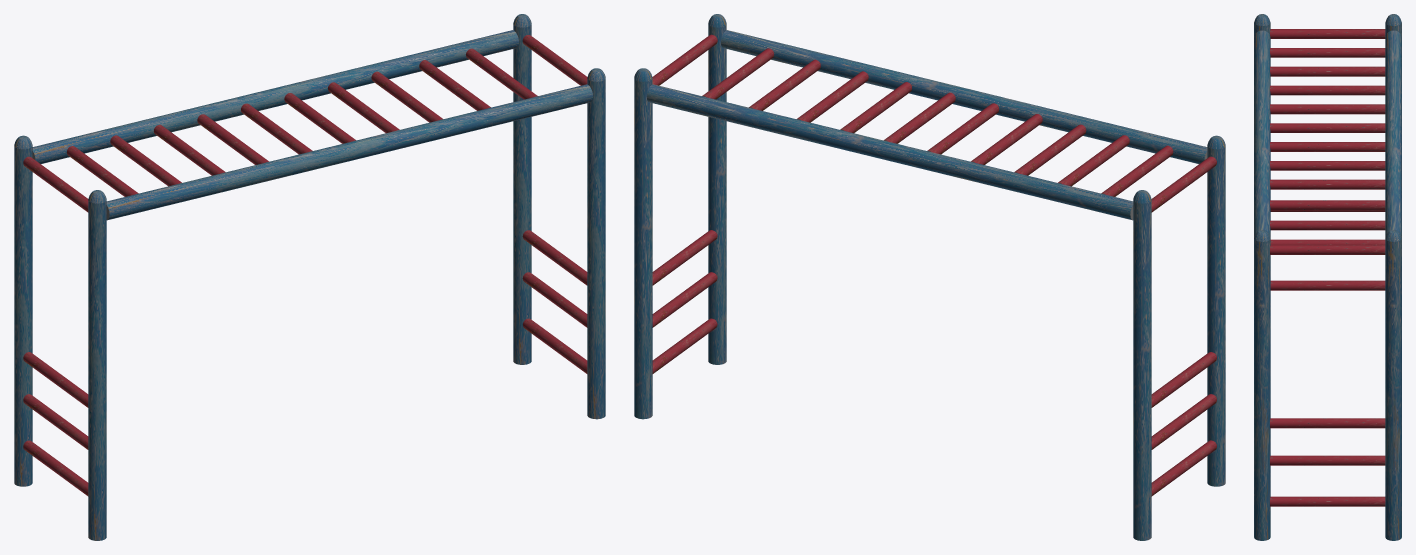
Rendered from pasamanos.obj.
3 renders of one model, left to right at view 1: azimuth 30°, elevation 25°; view 2: azimuth 150°, elevation 25°; view 3: azimuth 270°, elevation 25°, orthographic. The views are drawn at different scales.
Visible parts, largest first — view 1: pasamanos; view 2: pasamanos; view 3: pasamanos.
Part boxes in pixels (<box>): pasamanos: <box>14,14,605,540</box>; pasamanos: <box>634,14,1225,540</box>; pasamanos: <box>1254,14,1401,540</box>.
Bounding box in the file's own units: 3.2 × 2.05 × 0.8962.
